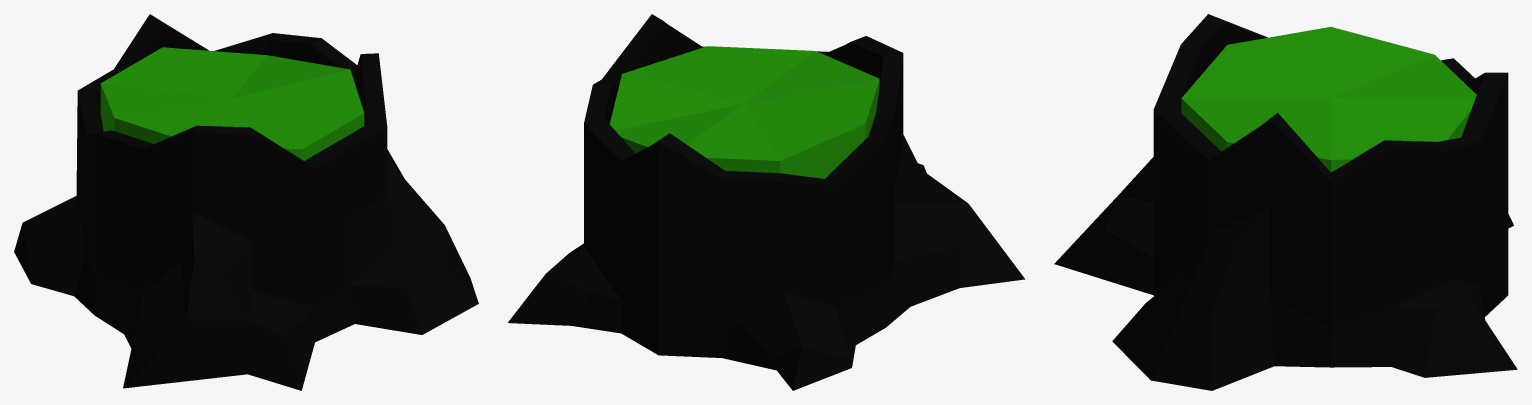
File: TreeStump_AT.fbx
The picture shows the model from 3 angles, left to right: view 1: azimuth 30°, elevation 25°; view 2: azimuth 150°, elevation 25°; view 3: azimuth 270°, elevation 25°; orthographic projection. The views are drawn at different scales.
Visible parts, largest first — view 1: TreeStump_AT; view 2: TreeStump_AT; view 3: TreeStump_AT.
Part boxes in pixels (bbox=[...]): TreeStump_AT: bbox=[14, 14, 478, 390]; TreeStump_AT: bbox=[508, 14, 1024, 390]; TreeStump_AT: bbox=[1054, 14, 1517, 390].
Size of the model in its own units: 103 by 58.23 by 103.
